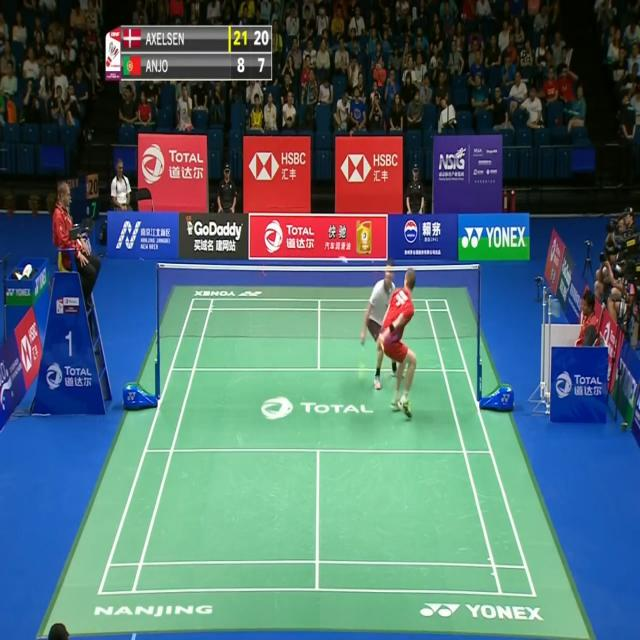Player1: (379, 269, 419, 425)
Player2: (361, 258, 398, 388)
